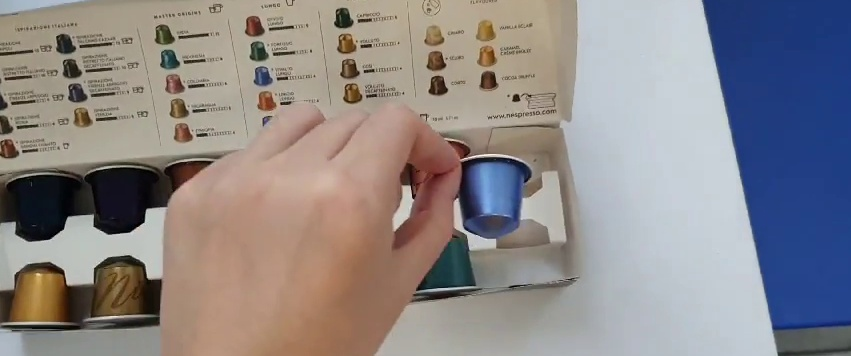capsule_7: (444, 154, 536, 240)
